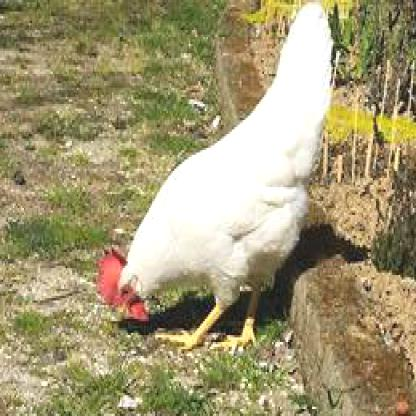chicken: (96, 2, 333, 354)
